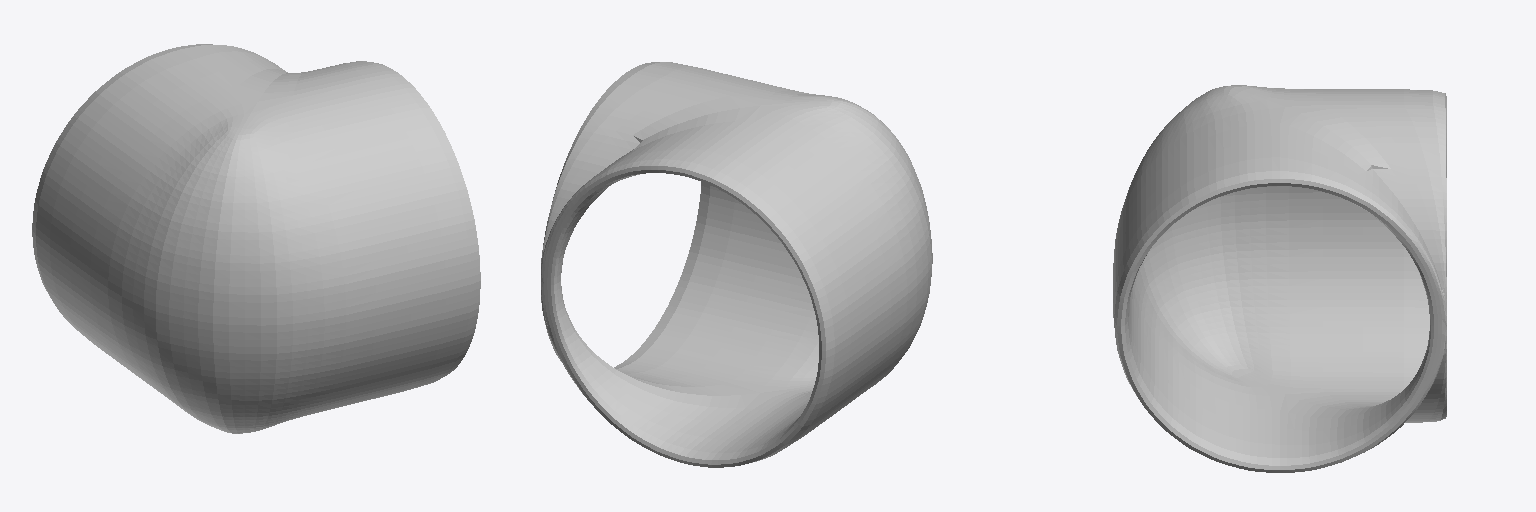
The model's file is tubelbw.obj.
The picture shows the model from 3 angles: view 1: azimuth 30°, elevation 25°; view 2: azimuth 150°, elevation 25°; view 3: azimuth 270°, elevation 25°; orthographic projection.
Visible parts, largest first — view 1: Elbow_Cylinder.004; view 2: Elbow_Cylinder.004; view 3: Elbow_Cylinder.004.
Boxes of the visible parts, box(x1,y1,x2,y2) form: Elbow_Cylinder.004: box(32, 44, 480, 433); Elbow_Cylinder.004: box(541, 62, 932, 467); Elbow_Cylinder.004: box(1113, 85, 1446, 472).
Bounding box in the file's own units: 2 × 1.99 × 2.